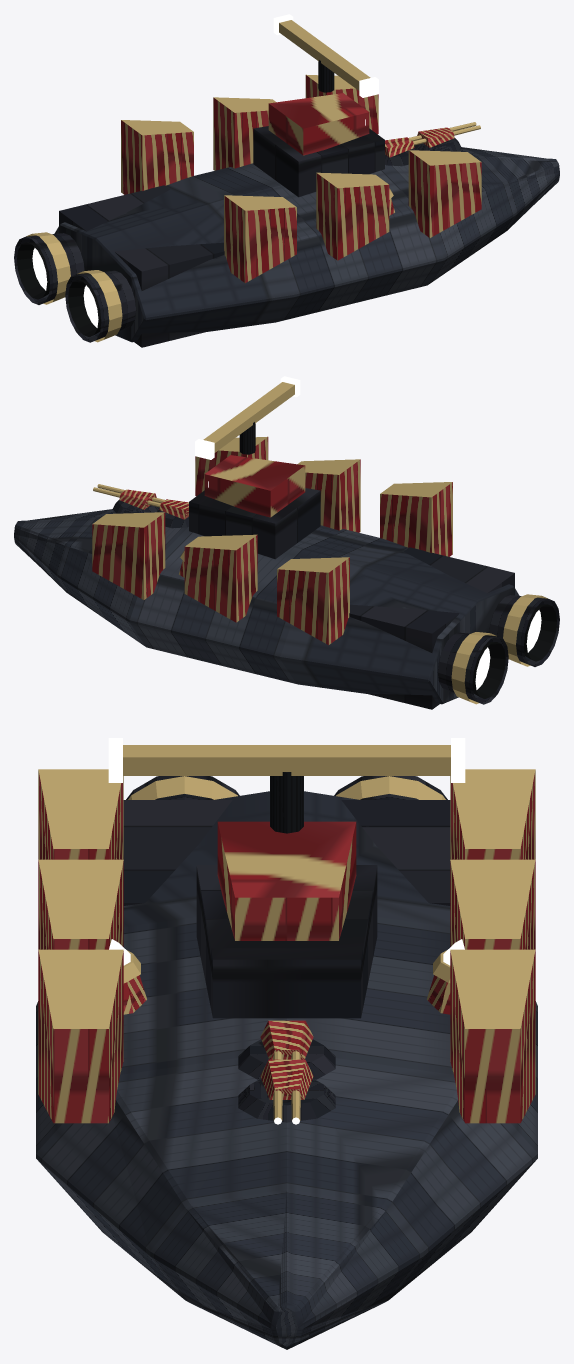
File: command_ship.glb
3 views of the same model, one above another, from view 1: azimuth 30°, elevation 25°; view 2: azimuth 150°, elevation 25°; view 3: azimuth 270°, elevation 25° (orthographic). The views are drawn at different scales.
Visible parts, largest first — view 1: hull_body, engine_block, sensor_tower, weapon_turrets; view 2: hull_body, engine_block, sensor_tower, weapon_turrets; view 3: hull_body, sensor_tower, engine_block, weapon_turrets, shield_domes.
Part boxes in pixels (x1,y1,x2,y2): hull_body: [54, 74, 559, 342]; engine_block: [14, 185, 224, 347]; sensor_tower: [253, 14, 384, 197]; weapon_turrets: [385, 122, 480, 166]; hull_body: [14, 436, 519, 704]; engine_block: [349, 547, 559, 709]; sensor_tower: [189, 376, 320, 559]; weapon_turrets: [93, 484, 188, 528]; hull_body: [36, 769, 537, 1349]; sensor_tower: [108, 738, 465, 1018]; engine_block: [123, 776, 450, 905]; weapon_turrets: [238, 1020, 335, 1124]; shield_domes: [109, 939, 464, 1014].
Bounding box in the file's own units: 56 × 24.71 × 24.38.
Materials: 1 (1 with a texture image).
